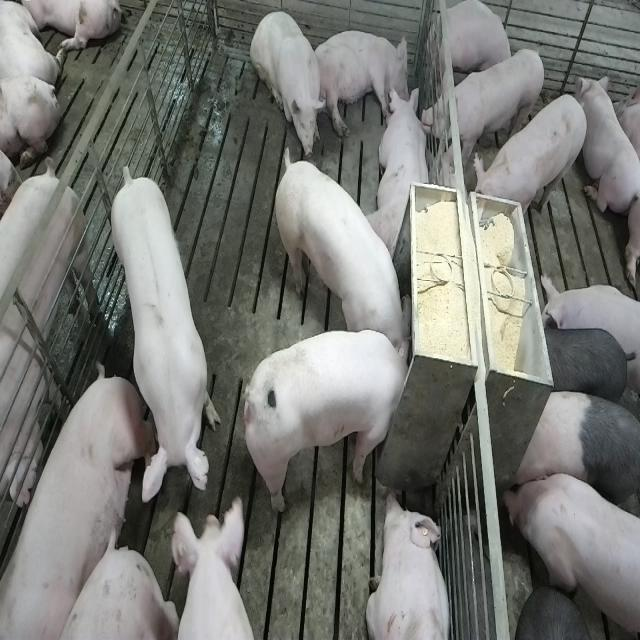Feeding: (248, 327, 419, 517), (272, 144, 410, 357)
Lateral_lying: (0, 366, 145, 640), (311, 29, 411, 138)
Sitting: (250, 7, 325, 159)
Standing: (107, 165, 220, 508), (0, 168, 99, 518), (502, 466, 638, 640), (512, 388, 638, 523), (473, 92, 589, 229), (422, 45, 546, 161), (171, 493, 267, 638), (530, 322, 636, 410)
Sternal_lying: (365, 490, 453, 640), (369, 85, 434, 262), (578, 72, 638, 221), (435, 1, 513, 87)
